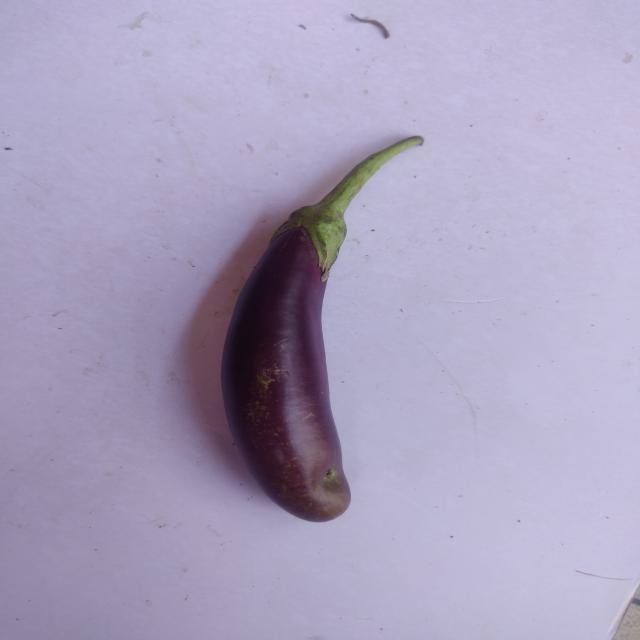Brinjal: (216, 124, 470, 544)
